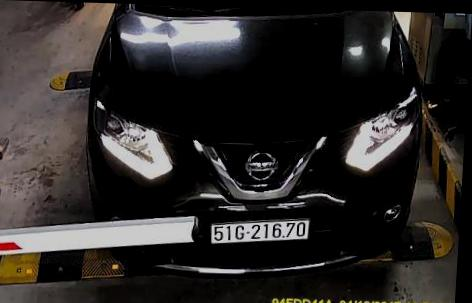License_Plate: (211, 217, 309, 246)
